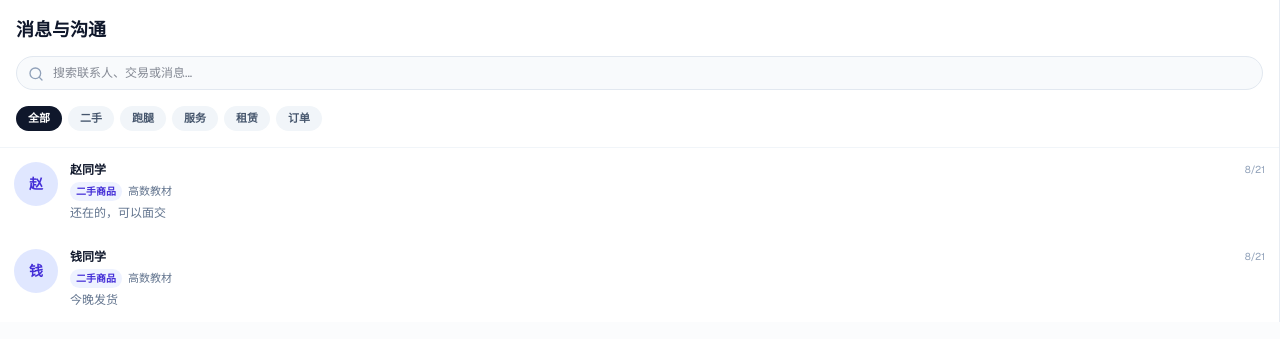
Scenario: ConversationList › filters items by search keyword across name and message
The width and height of the screenshot is (1280, 339).
Step 1. Type "今晚" into the field with placeholder "搜索联系人、交易或消息..." → (640, 73), box x1=16 y1=56 x2=1263 y2=90
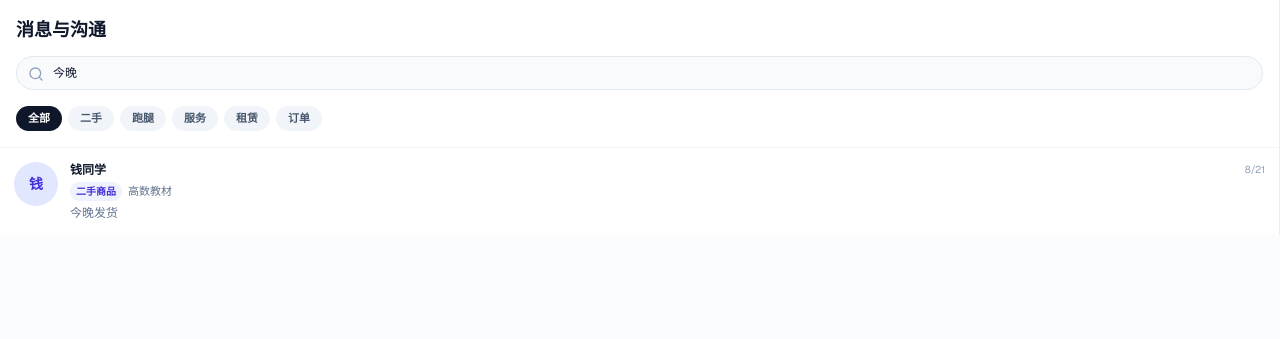
Expected: the text "钱同学" is shown, x1=70 y1=162 x2=106 y2=178
Result: the link "赵同学" is gone
Step 2. Replace the text in the field with placeholder "搜索联系人、交易或消息..." with "赵同学" → (640, 73), box x1=16 y1=56 x2=1263 y2=90
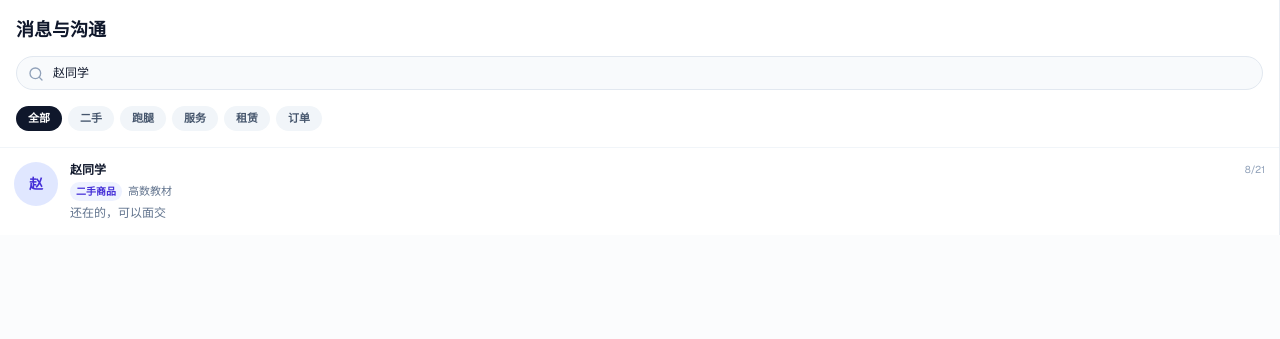
Result: the text "赵同学" is shown at x1=70 y1=162 x2=106 y2=178
